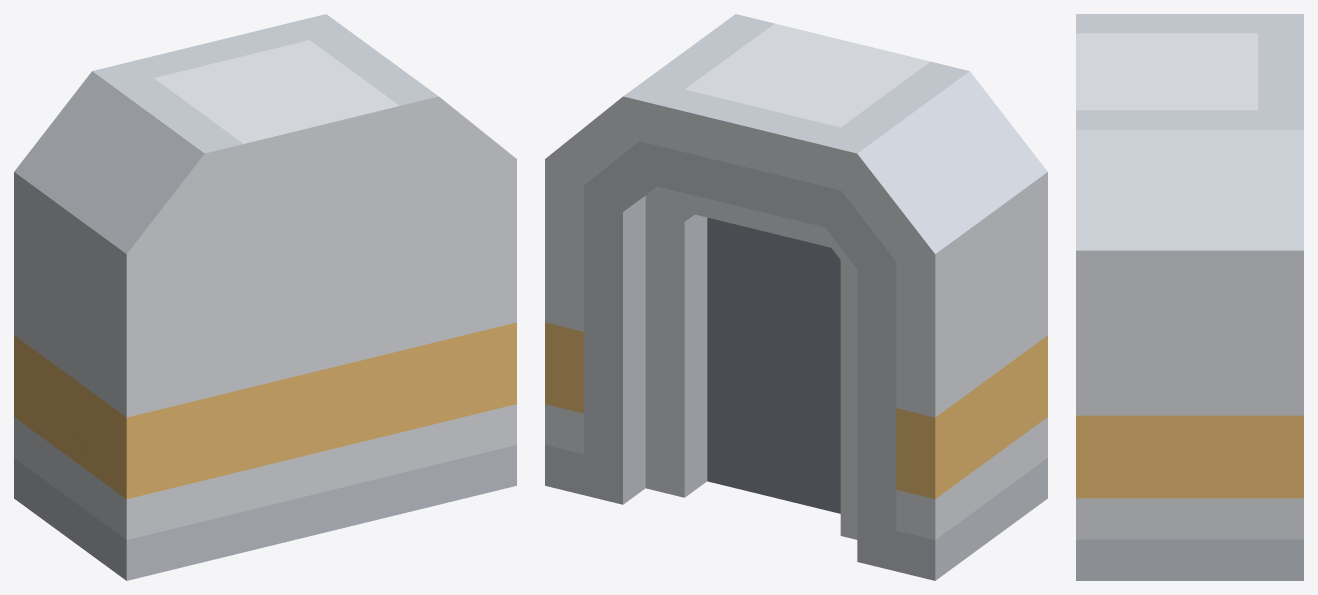
File: corridor_end.glb
3 views of the same model, side by side, from view 1: azimuth 30°, elevation 25°; view 2: azimuth 150°, elevation 25°; view 3: azimuth 270°, elevation 25° (orthographic).
Parts seen in each view (by area): view 1: corridor_end; view 2: corridor_end; view 3: corridor_end.
Part boxes in pixels (left/top/right/bottom): corridor_end: left=14, top=14, right=516, bottom=580; corridor_end: left=545, top=14, right=1047, bottom=580; corridor_end: left=1076, top=14, right=1303, bottom=580.
Size of the model in its own units: 1 by 1 by 0.5.
